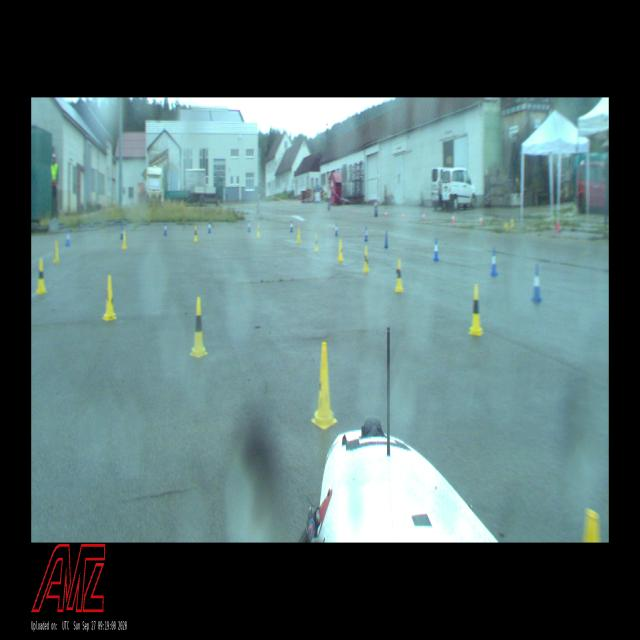blue_cone: (530, 266, 542, 302), (490, 249, 498, 276), (433, 238, 440, 261), (65, 229, 70, 246), (384, 231, 388, 247), (247, 217, 251, 232), (290, 217, 294, 232), (334, 222, 338, 236), (163, 222, 167, 236), (364, 228, 368, 242), (208, 221, 211, 233)
yellow_cone: (310, 342, 338, 430), (189, 298, 208, 358), (101, 275, 117, 320), (470, 284, 482, 334), (35, 258, 48, 294), (395, 259, 404, 291), (363, 246, 370, 273), (53, 240, 59, 263), (338, 240, 344, 262), (121, 231, 128, 249), (296, 227, 302, 243), (193, 225, 199, 241), (315, 233, 319, 252), (256, 224, 260, 238)
